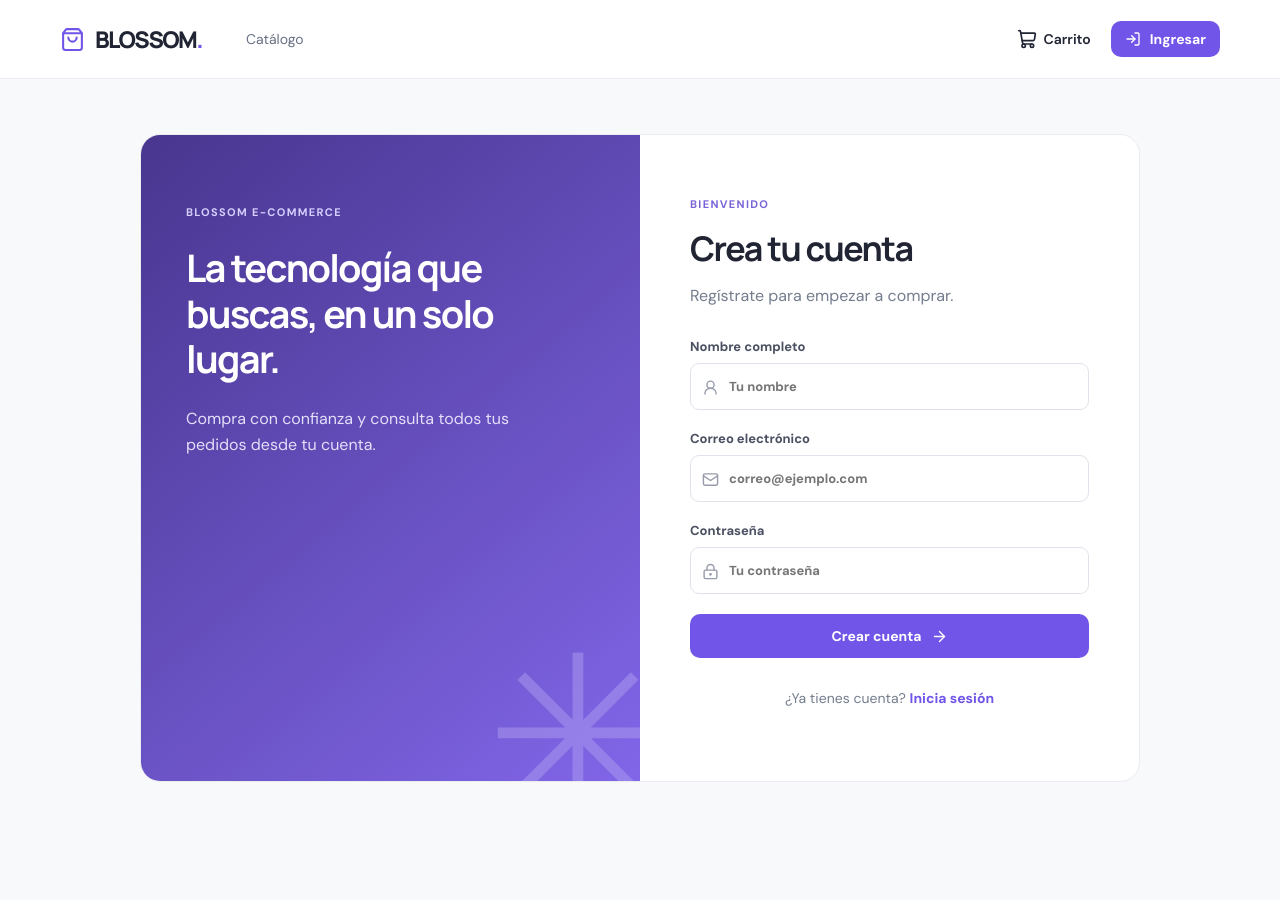
Test: Login y registro › rechaza nombre demasiado corto antes de registrar
This screenshot has width=1280, height=900.
In the field with placeholder "Tu nombre": (890, 387) [690, 363, 1089, 410], type "A"
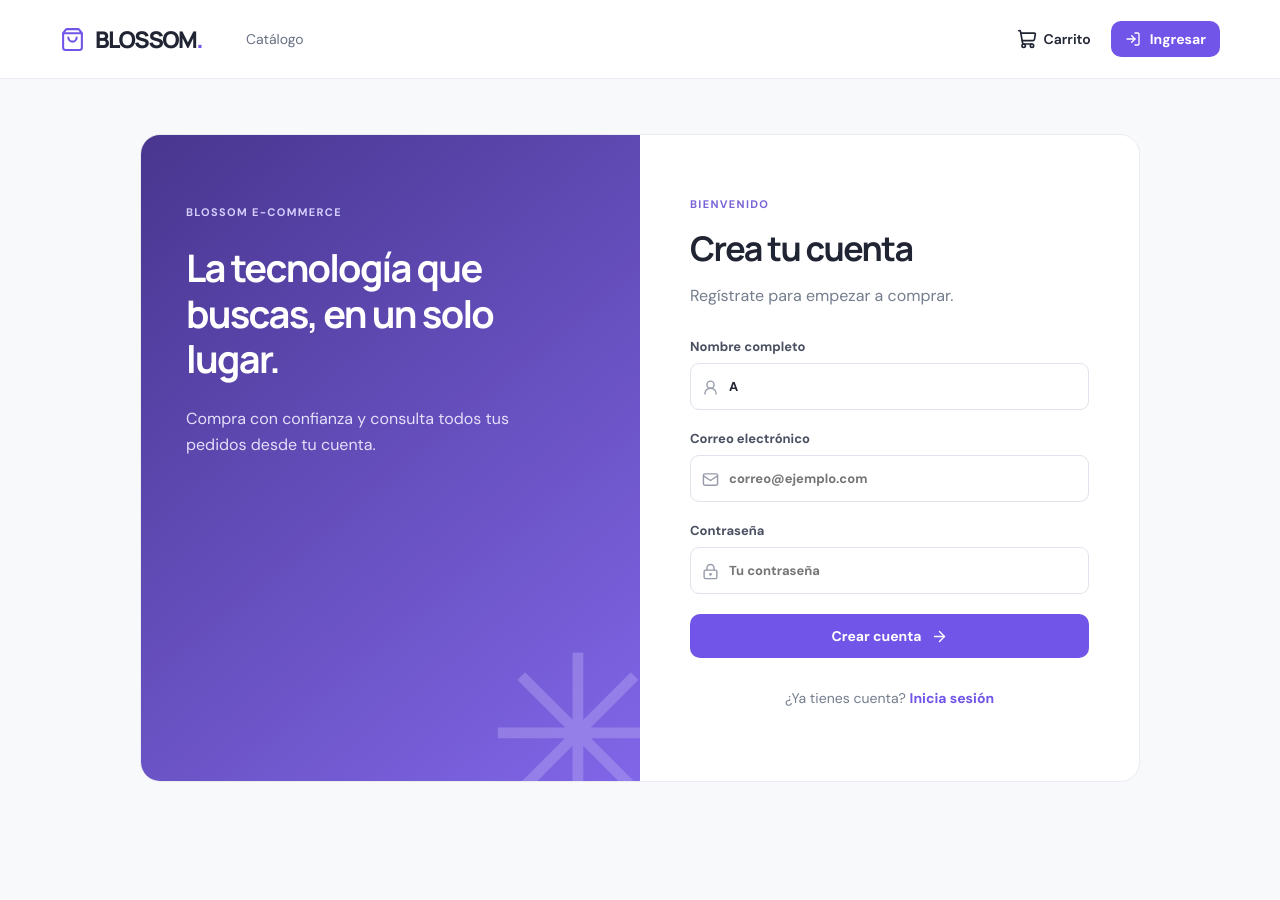
In the field with placeholder "correo@ejemplo.com": (890, 479) [690, 455, 1089, 502], type "cliente@blossom.test"
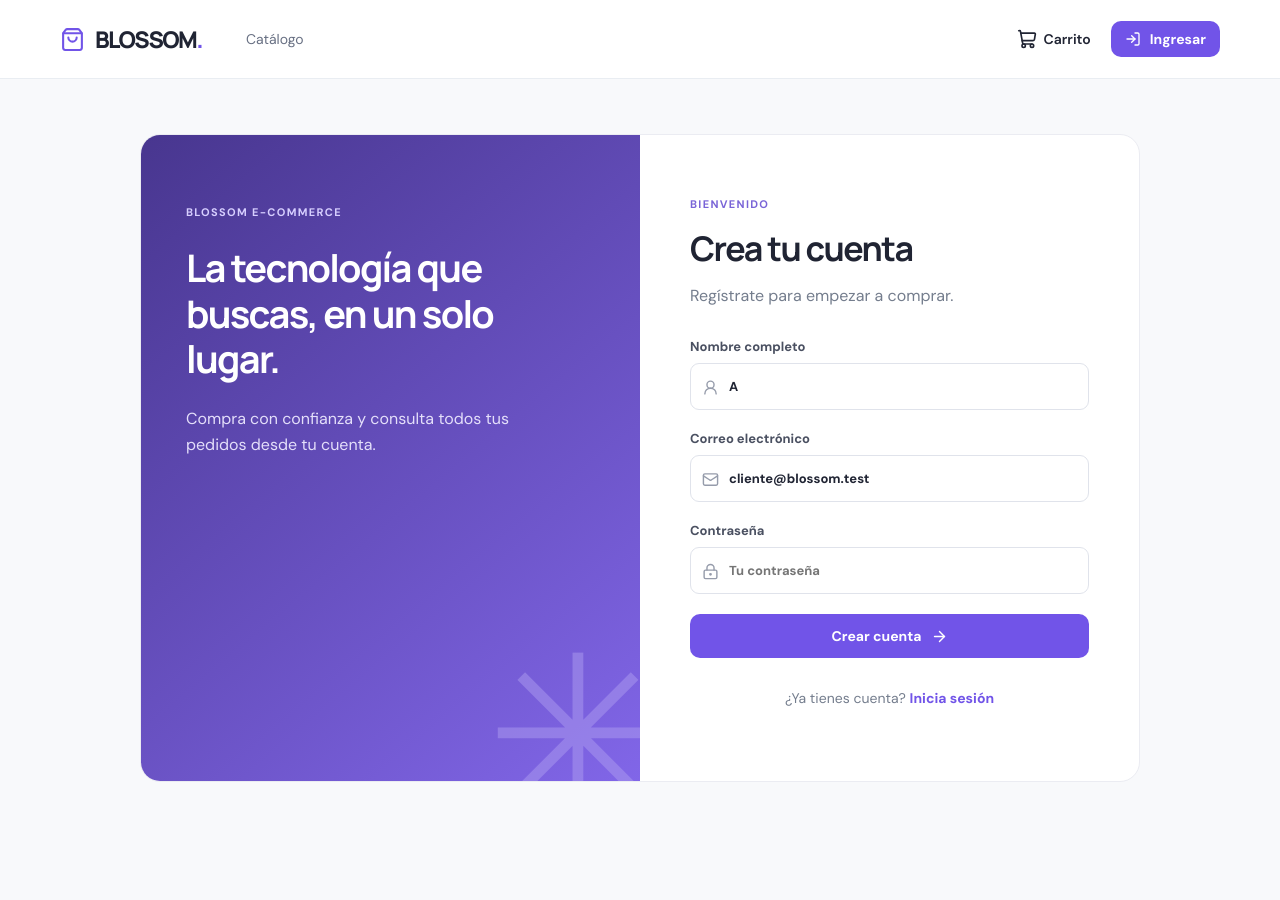
In the password field with placeholder "Tu contraseña": (890, 571) [690, 547, 1089, 594], type "Blossom123!"
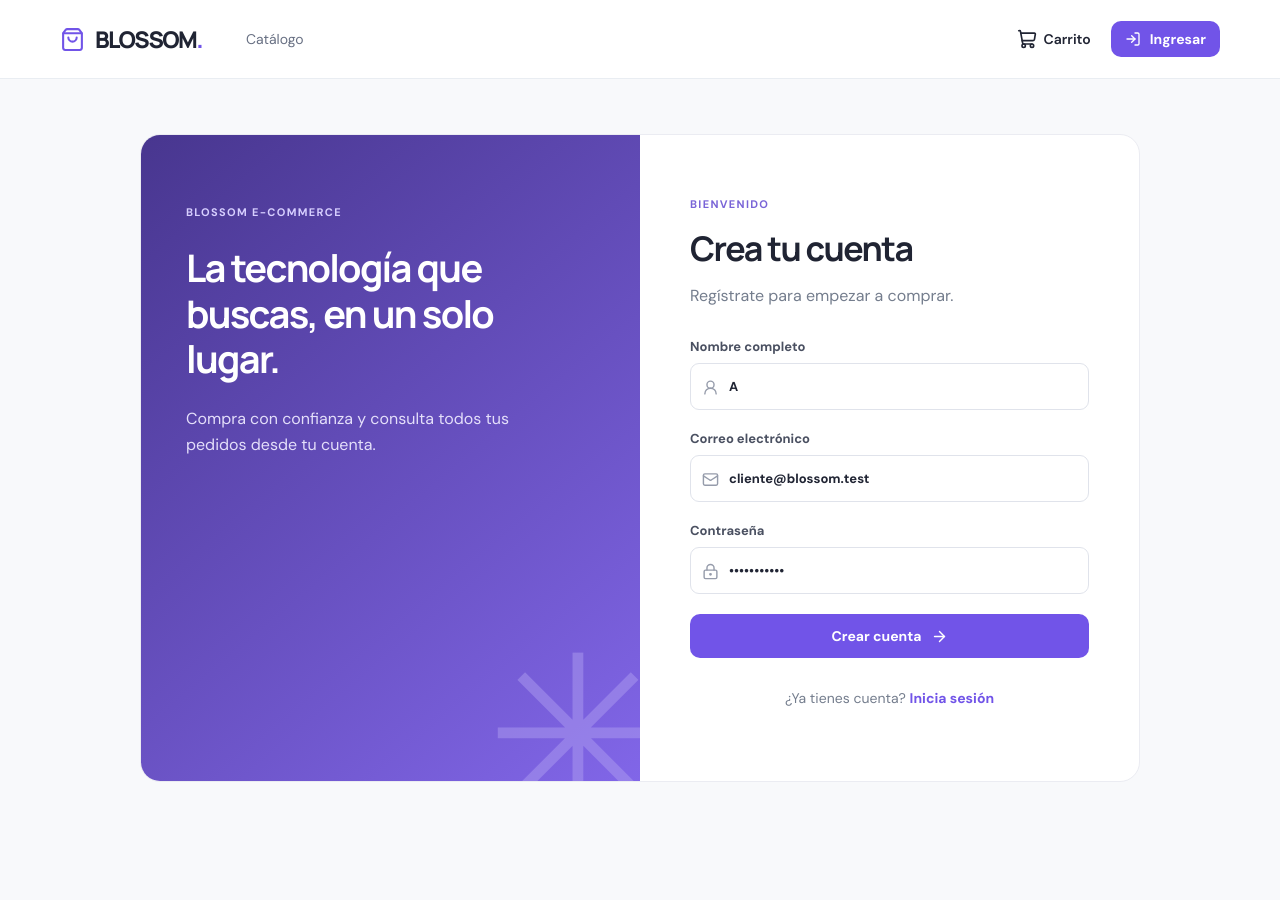
Click the button "Crear cuenta": (890, 636) [690, 614, 1089, 658]
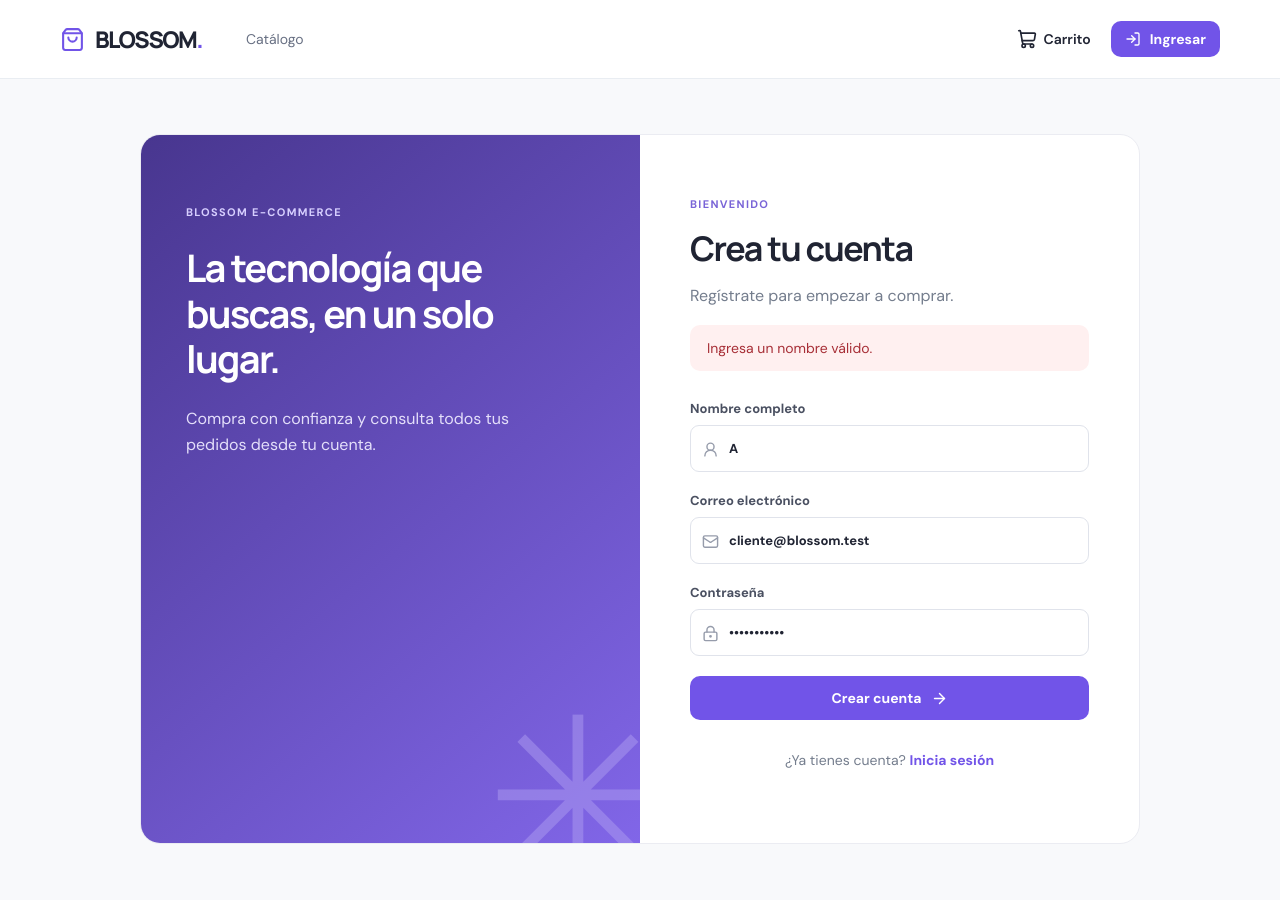
Now the message shows "Ingresa un nombre válido", box [707, 339, 872, 357]
